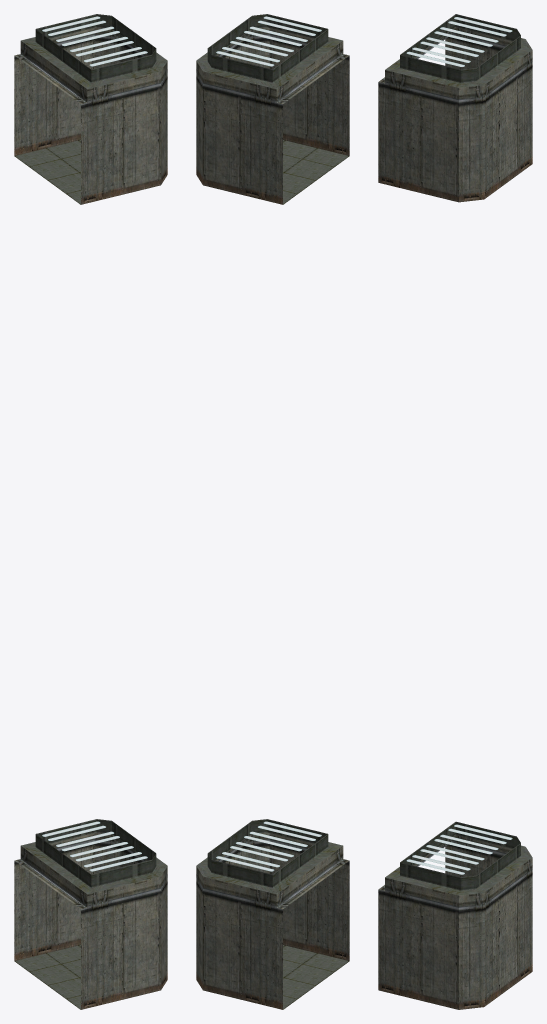
The model's file is poi_all_impl_bunker_crimelord_retreat_s01_r36_elevator04_mesh_r36.fbx.
3 views of the same model, side by side, from view 1: azimuth 30°, elevation 25°; view 2: azimuth 150°, elevation 25°; view 3: azimuth 330°, elevation 25° (orthographic).
Parts seen in each view (by area): view 1: mesh_node; view 2: mesh_node; view 3: mesh_node.
Part boxes in pixels (x1,y1,x2,y2): mesh_node: (14,14,167,1009); mesh_node: (196,14,349,1009); mesh_node: (378,14,532,1009).
Bounding box in the file's own units: 3 × 27.8 × 3.6.
